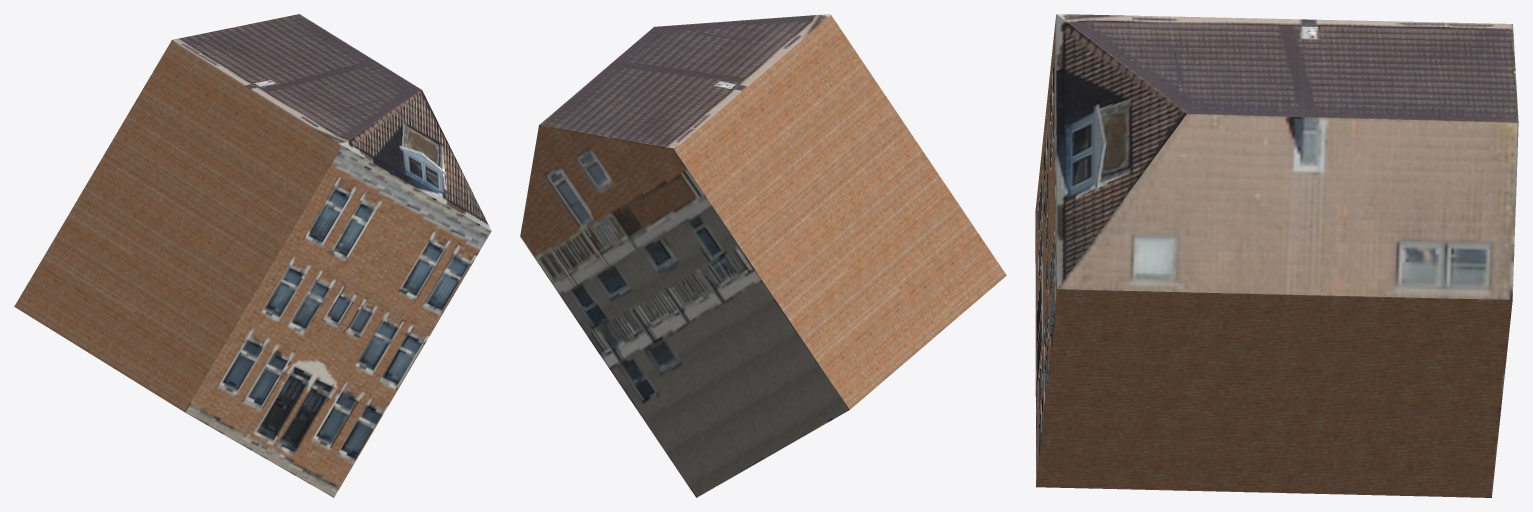
3 renders of one model, left to right at view 1: azimuth 30°, elevation 25°; view 2: azimuth 150°, elevation 25°; view 3: azimuth 270°, elevation 25°, orthographic. The views are drawn at different scales.
Visible parts, largest first — view 1: BAG_0599100000760396 (×2); view 2: BAG_0599100000760396 (×2); view 3: BAG_0599100000760396 (×3).
Boxes of the visible parts, <box> form: BAG_0599100000760396 (×2): <box>14,14,491,497</box>; BAG_0599100000760396 (×2): <box>520,14,1006,497</box>; BAG_0599100000760396 (×3): <box>1035,14,1518,497</box>.
Bounding box in the file's own units: 13.51 × 14.18 × 12.42.
Materials: 1 (1 with a texture image).
